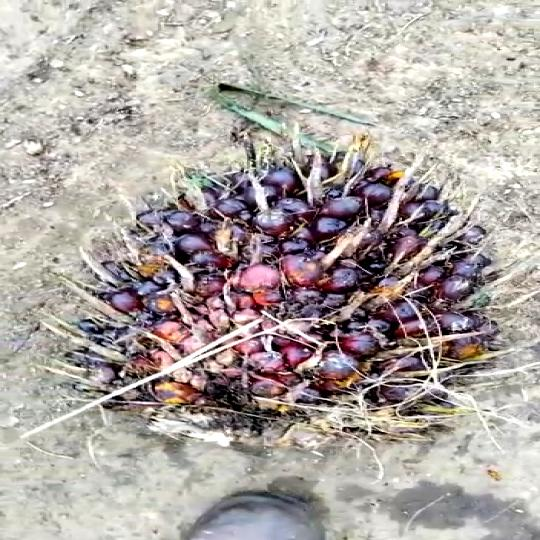kurang masak: (87, 141, 510, 462)
